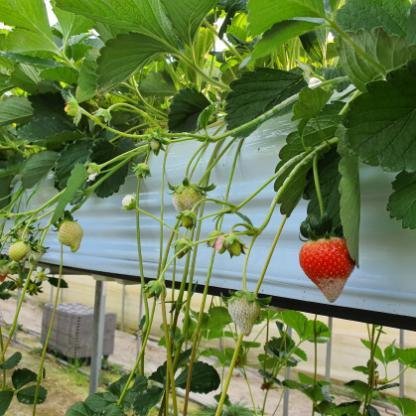Strawberry_Powdery_Mildew_Fruit: (298, 238, 356, 304), (228, 290, 261, 338), (170, 183, 202, 216)
